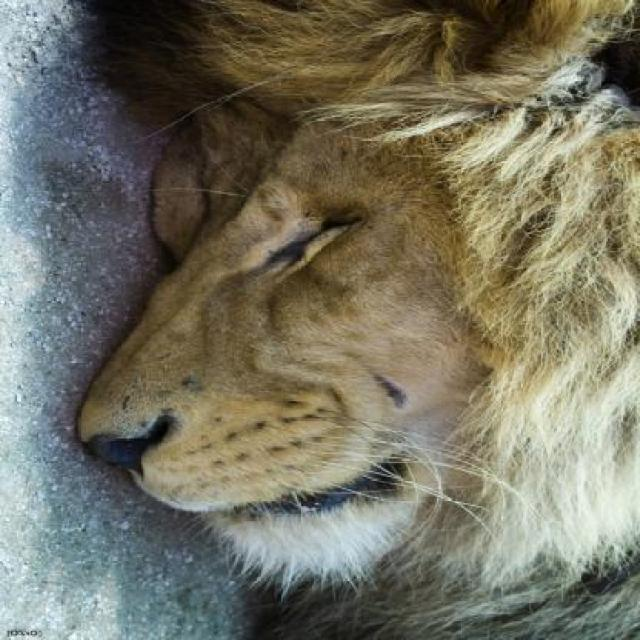Lion: (43, 16, 634, 638)
